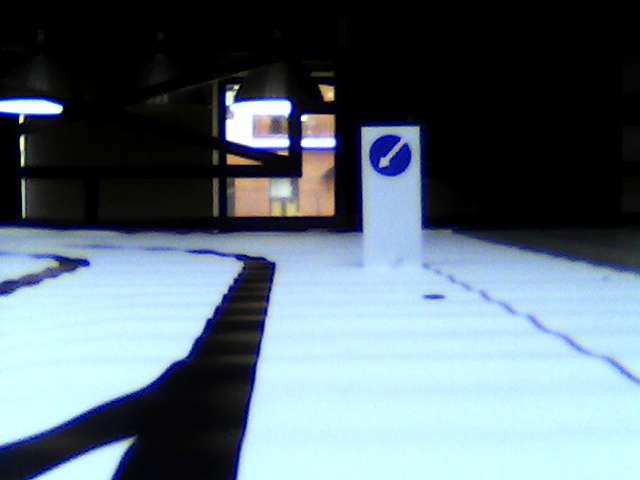prep: (368, 136, 413, 177)
